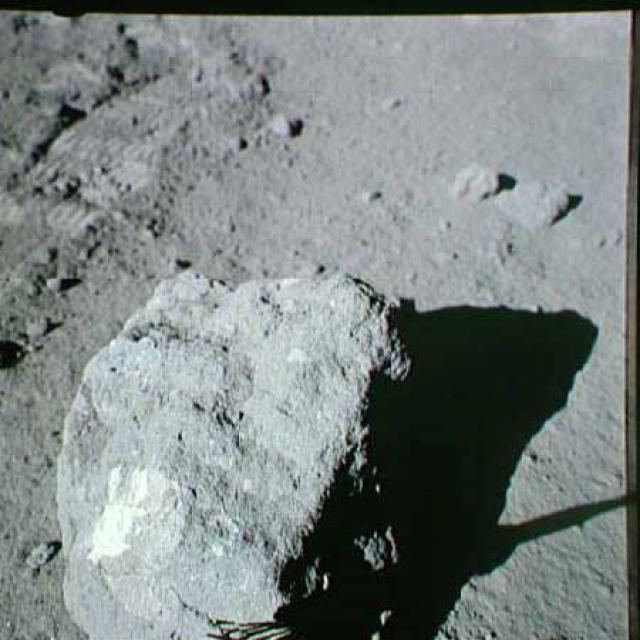rock: (47, 257, 424, 638), (504, 175, 576, 229), (453, 150, 503, 201)
